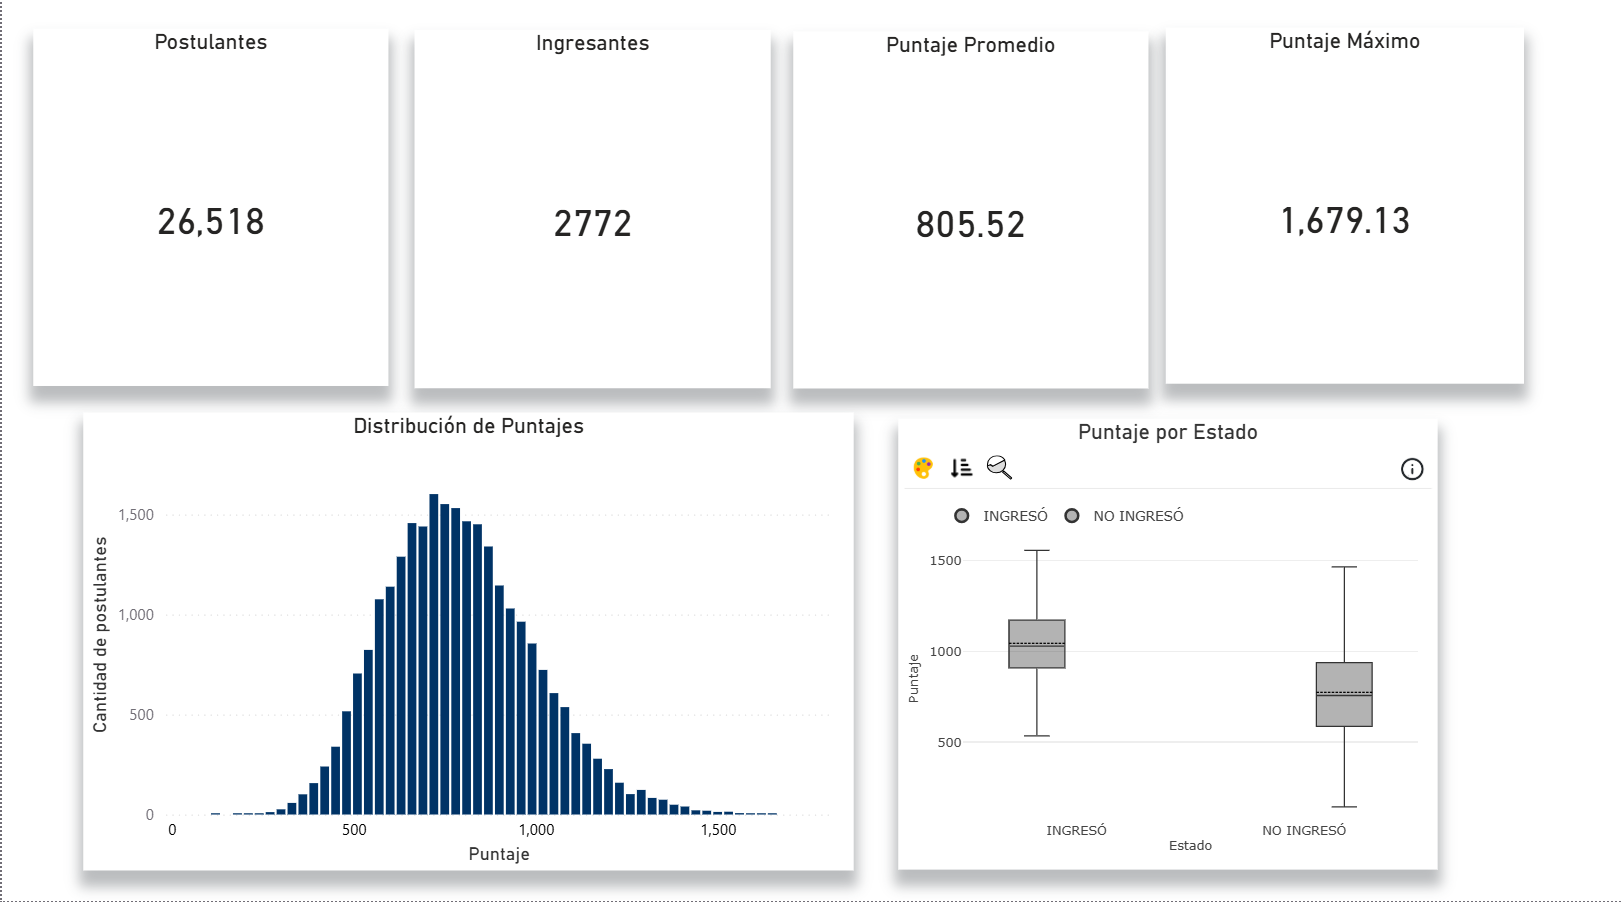

The page's visual inventory and layout, read from the dashboard file:
{"tool":"powerbi","page":{"name":"SAN MARCOS 2026-I","canvas":[1280,720],"ordinal":0},"visuals":[{"type":"card","title":"Postulantes","fields":{"Values":["CountNonNull(resultados_admision_unmsm.codigo)"]},"box":[24.4,34.7,279.2,280.4],"z":0},{"type":"card","title":"Ingresantes","fields":{"Values":["Sum(df_activos.ingreso)"]},"box":[324.4,34.9,280.2,281.4],"z":1000},{"type":"card","title":"Puntaje Máximo","fields":{"Values":["Max(df_activos.puntaje)"]},"box":[915.1,33.7,281.4,280.2],"z":2000},{"type":"card","title":"Puntaje Promedio","fields":{"Values":["Avg(df_activos.puntaje)"]},"box":[622,36,279,281],"z":3000},{"type":"clusteredColumnChart","title":"Distribución de Puntajes","fields":{"Category":["df_activos.puntaje (ubicaciones)"],"Y":["CountNonNull(df_activos.codigo)"]},"box":[64.3,335.7,605.7,360],"z":4000},{"type":"boxandwhiskerwithpoints3B3DF5C11B683E5DB4E630DD7899B035","title":"Puntaje por Estado","fields":{"col_0":["df_activos.estado"],"col_2":["df_activos.puntaje"],"col_1":["df_activos.estado"]},"box":[704.3,341.4,424.3,354.3],"z":5000}]}

Visuals, with their boxes in screenshot pixels (x1, y1, x2, y2), scaled from the page's 1280x720 canvas onto the 1622x902 screenshot:
"Postulantes" card: [left=31, top=43, right=385, bottom=395]
"Ingresantes" card: [left=411, top=44, right=766, bottom=396]
"Puntaje Máximo" card: [left=1160, top=42, right=1516, bottom=393]
"Puntaje Promedio" card: [left=788, top=45, right=1142, bottom=397]
"Distribución de Puntajes" clusteredColumnChart: [left=81, top=421, right=849, bottom=872]
"Puntaje por Estado" boxandwhiskerwithpoints3B3DF5C11B683E5DB4E630DD7899B035: [left=892, top=428, right=1430, bottom=872]
